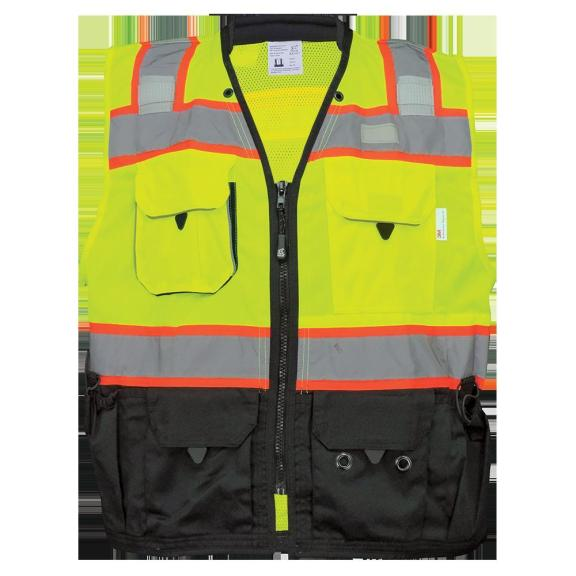safety_vest: (83, 16, 492, 551)
